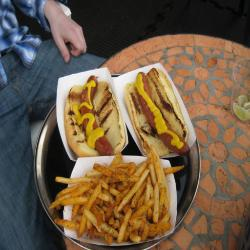fires: (65, 156, 176, 242)
hotdog: (122, 68, 196, 160), (62, 75, 128, 159)
